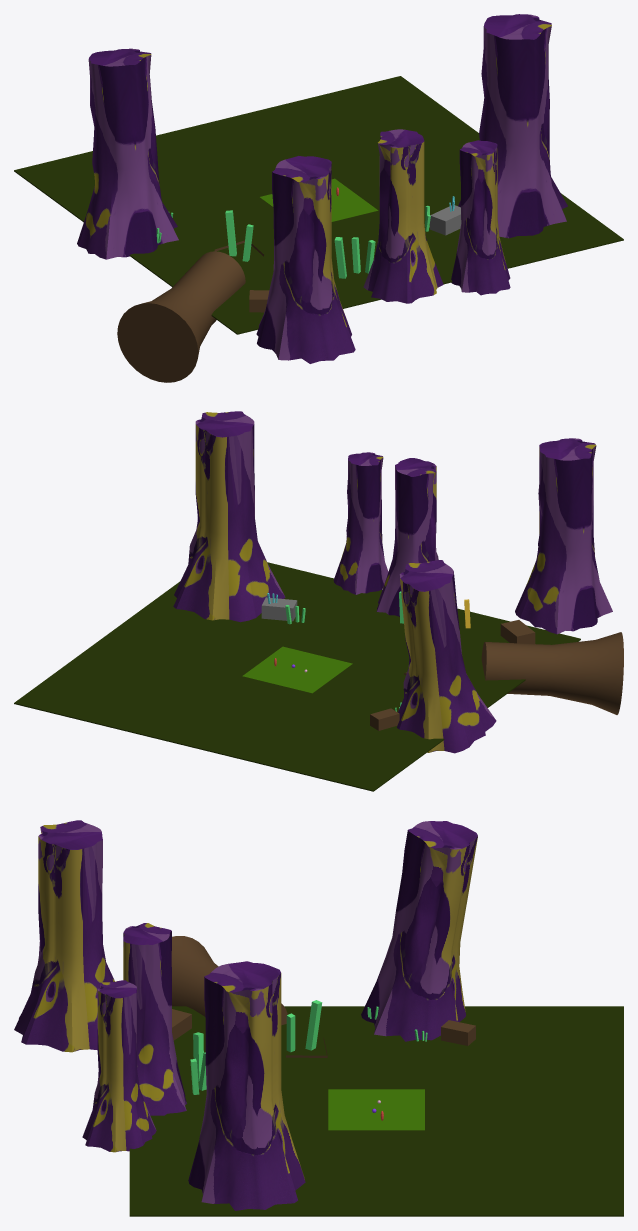
Rendered from M6BO_pokemon_blockout_voor_devs (1).fbx.
3 renders of one model, top to bottom at view 1: azimuth 30°, elevation 25°; view 2: azimuth 150°, elevation 25°; view 3: azimuth 270°, elevation 25°, orthographic. The views are drawn at different scales.
Visible parts, largest first — view 1: battleground.001, tree-v1, tree-v1.004, tree-v1.001, tree02.001, tree-v1.002, tree-v1.003, ground.001, green muschrooms.001, rock01.001, giant muschrooms (front).001; view 2: battleground.001, tree-v1.004, tree-v1.001, tree-v1, tree02.001, tree-v1.003, tree-v1.002, ground.001, rock01.001, rock or log? 01.001; view 3: battleground.001, tree-v1.004, tree-v1, tree-v1.001, tree-v1.003, tree-v1.002, ground.001, tree02.001, giant muschrooms (front).001, green muschrooms.001, rock or log? 02.001.
Boxes of the visible parts, x1,y1,x2,y2 form: battleground.001: (14,76,623,334); tree-v1: (77,48,178,259); tree-v1.004: (458,14,567,238); tree-v1.001: (256,156,355,363); tree02.001: (117,251,245,382); tree-v1.002: (363,129,443,303); tree-v1.003: (451,140,510,295); ground.001: (259,178,378,221); green muschrooms.001: (334,237,375,278); rock01.001: (430,205,461,235); giant muschrooms (front).001: (225,210,253,261); battleground.001: (14,562,580,791); tree-v1.004: (173,411,285,622); tree-v1.001: (515,438,612,634); tree-v1: (397,560,496,753); tree02.001: (481,632,623,714); tree-v1.003: (333,452,388,594); tree-v1.002: (376,458,438,616); ground.001: (242,646,352,693); rock01.001: (261,597,297,621); rock or log? 01.001: (500,620,535,643); battleground.001: (129,1006,623,1216); tree-v1.004: (188,961,305,1210); tree-v1: (361,821,477,1041); tree-v1.001: (14,820,114,1052); tree-v1.003: (82,980,156,1152); tree-v1.002: (123,923,186,1115); ground.001: (328,1089,424,1130); tree02.001: (171,936,287,1025); giant muschrooms (front).001: (286,1000,322,1052); green muschrooms.001: (190,1032,206,1094); rock or log? 02.001: (441,1020,475,1045).
Bounding box in the file's own units: 44431 × 21519 × 45200.
